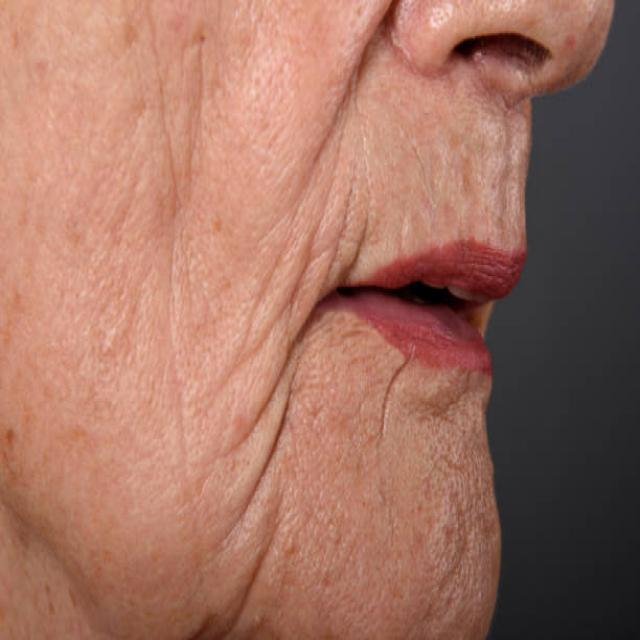Dry-Skin: (49, 20, 336, 568)
